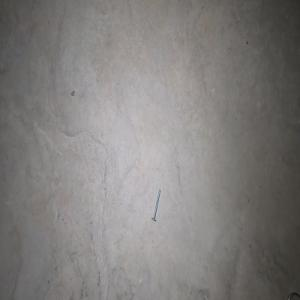Bolt: (151, 187, 160, 222)
